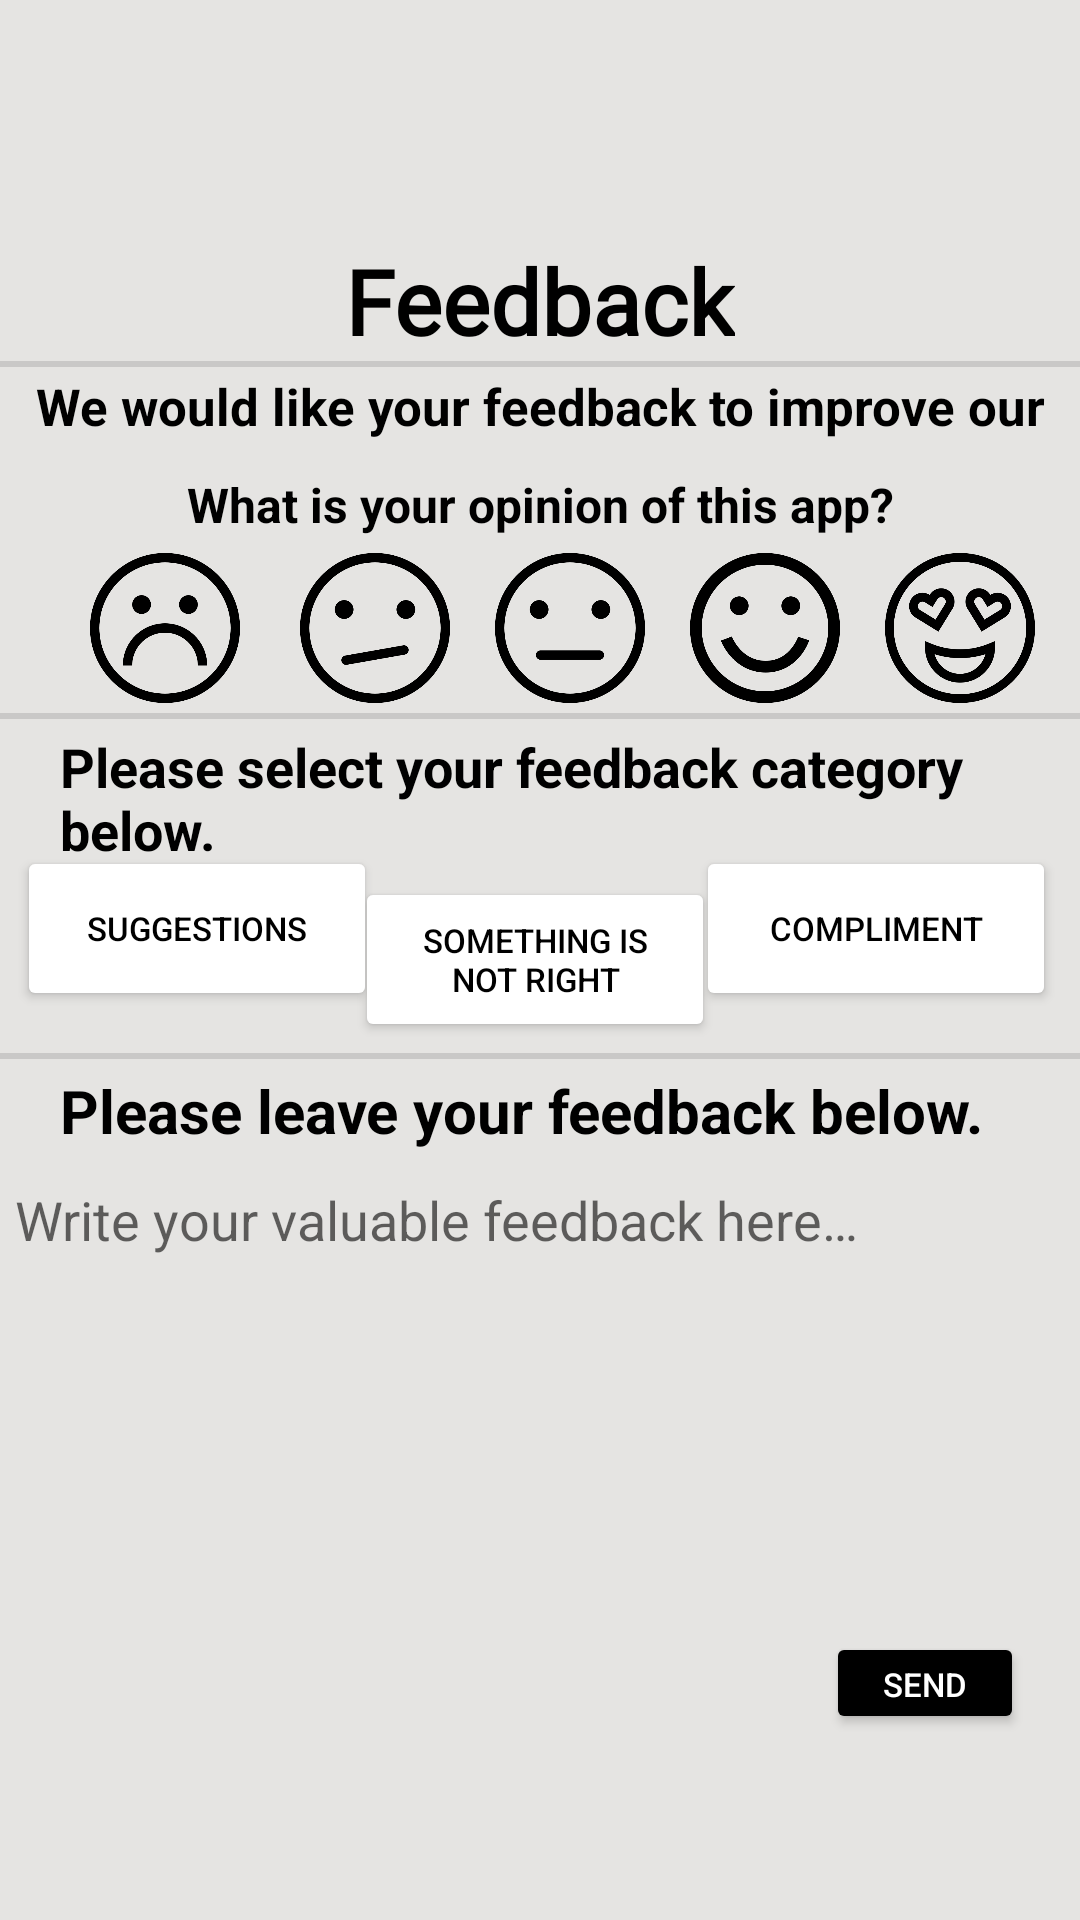

Where to tap for icons on this 1080×1920 app screen, as (x,y):
fineg: (765,628)
happyg: (960,628)
neutralg: (570,628)
okg: (375,628)
sadg: (165,628)
